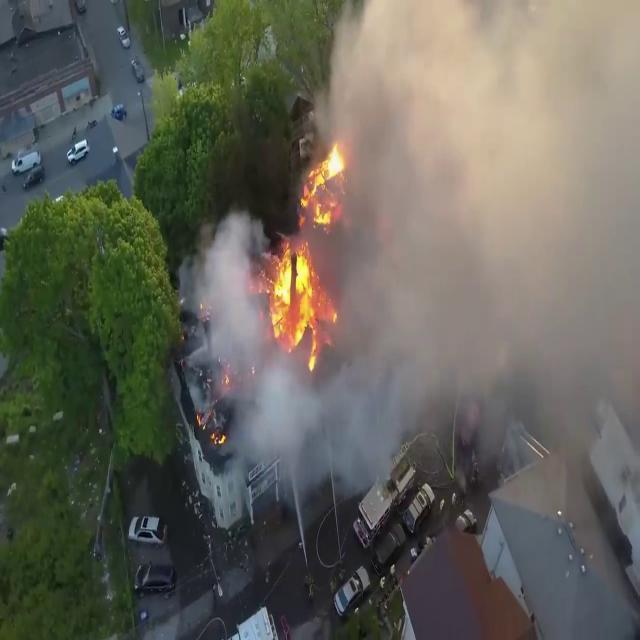Fire: (266, 135, 347, 365)
Smoke: (194, 0, 640, 527)
